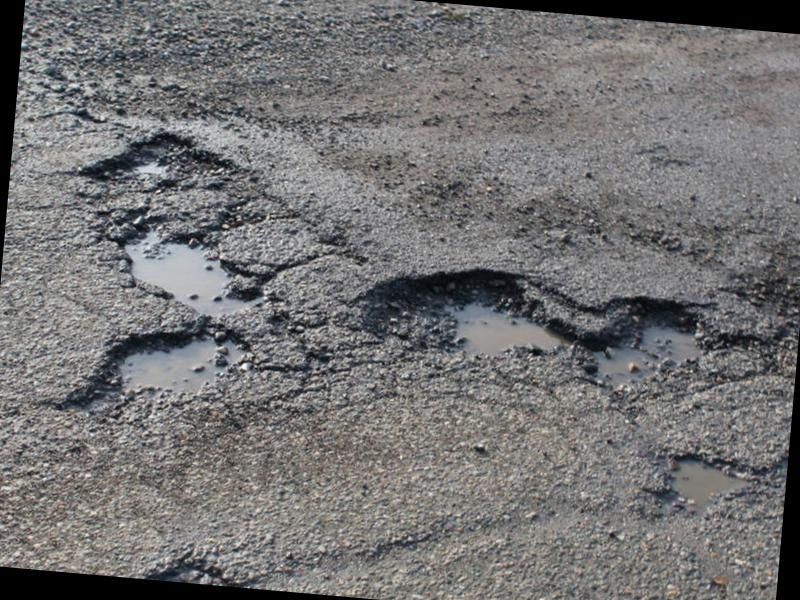pothole: (322, 229, 762, 445), (42, 307, 278, 461), (115, 224, 271, 324), (658, 449, 758, 522)
